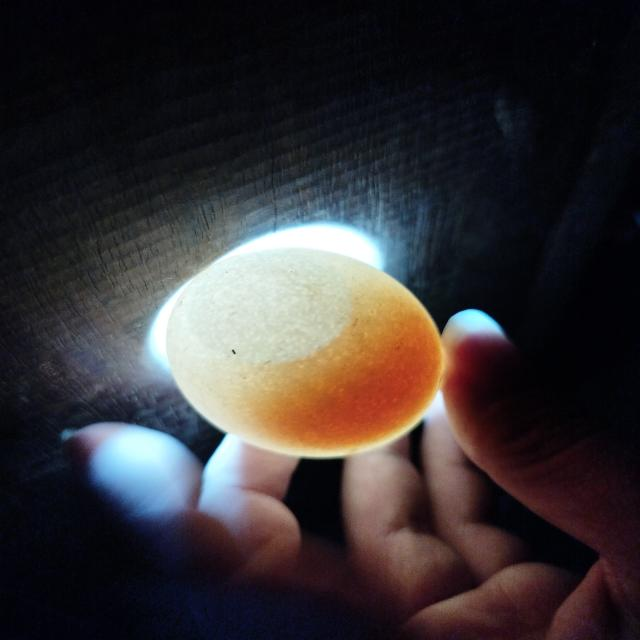Camara de Ar: (183, 253, 355, 369)
Gema Quebrada: (265, 319, 442, 448)
